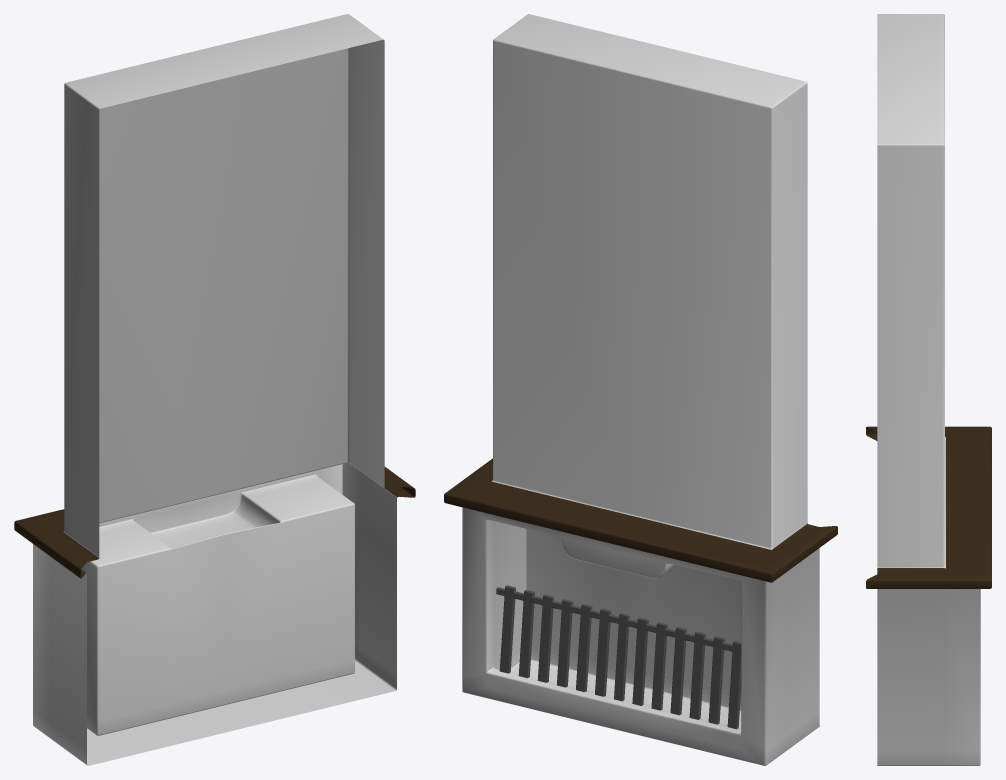
File: fireplace.fbx
3 views of the same model, side by side, from view 1: azimuth 30°, elevation 25°; view 2: azimuth 150°, elevation 25°; view 3: azimuth 270°, elevation 25° (orthographic). The views are drawn at different scales.
Visible parts, largest first — view 1: fireplace; view 2: fireplace, grill; view 3: fireplace.
Part boxes in pixels (x1,y1,x2,y2): fireplace: [14, 14, 415, 765]; fireplace: [444, 14, 837, 765]; grill: [496, 585, 741, 729]; fireplace: [866, 14, 991, 765].
Bounding box in the file's own units: 217 × 405 × 74.97.
